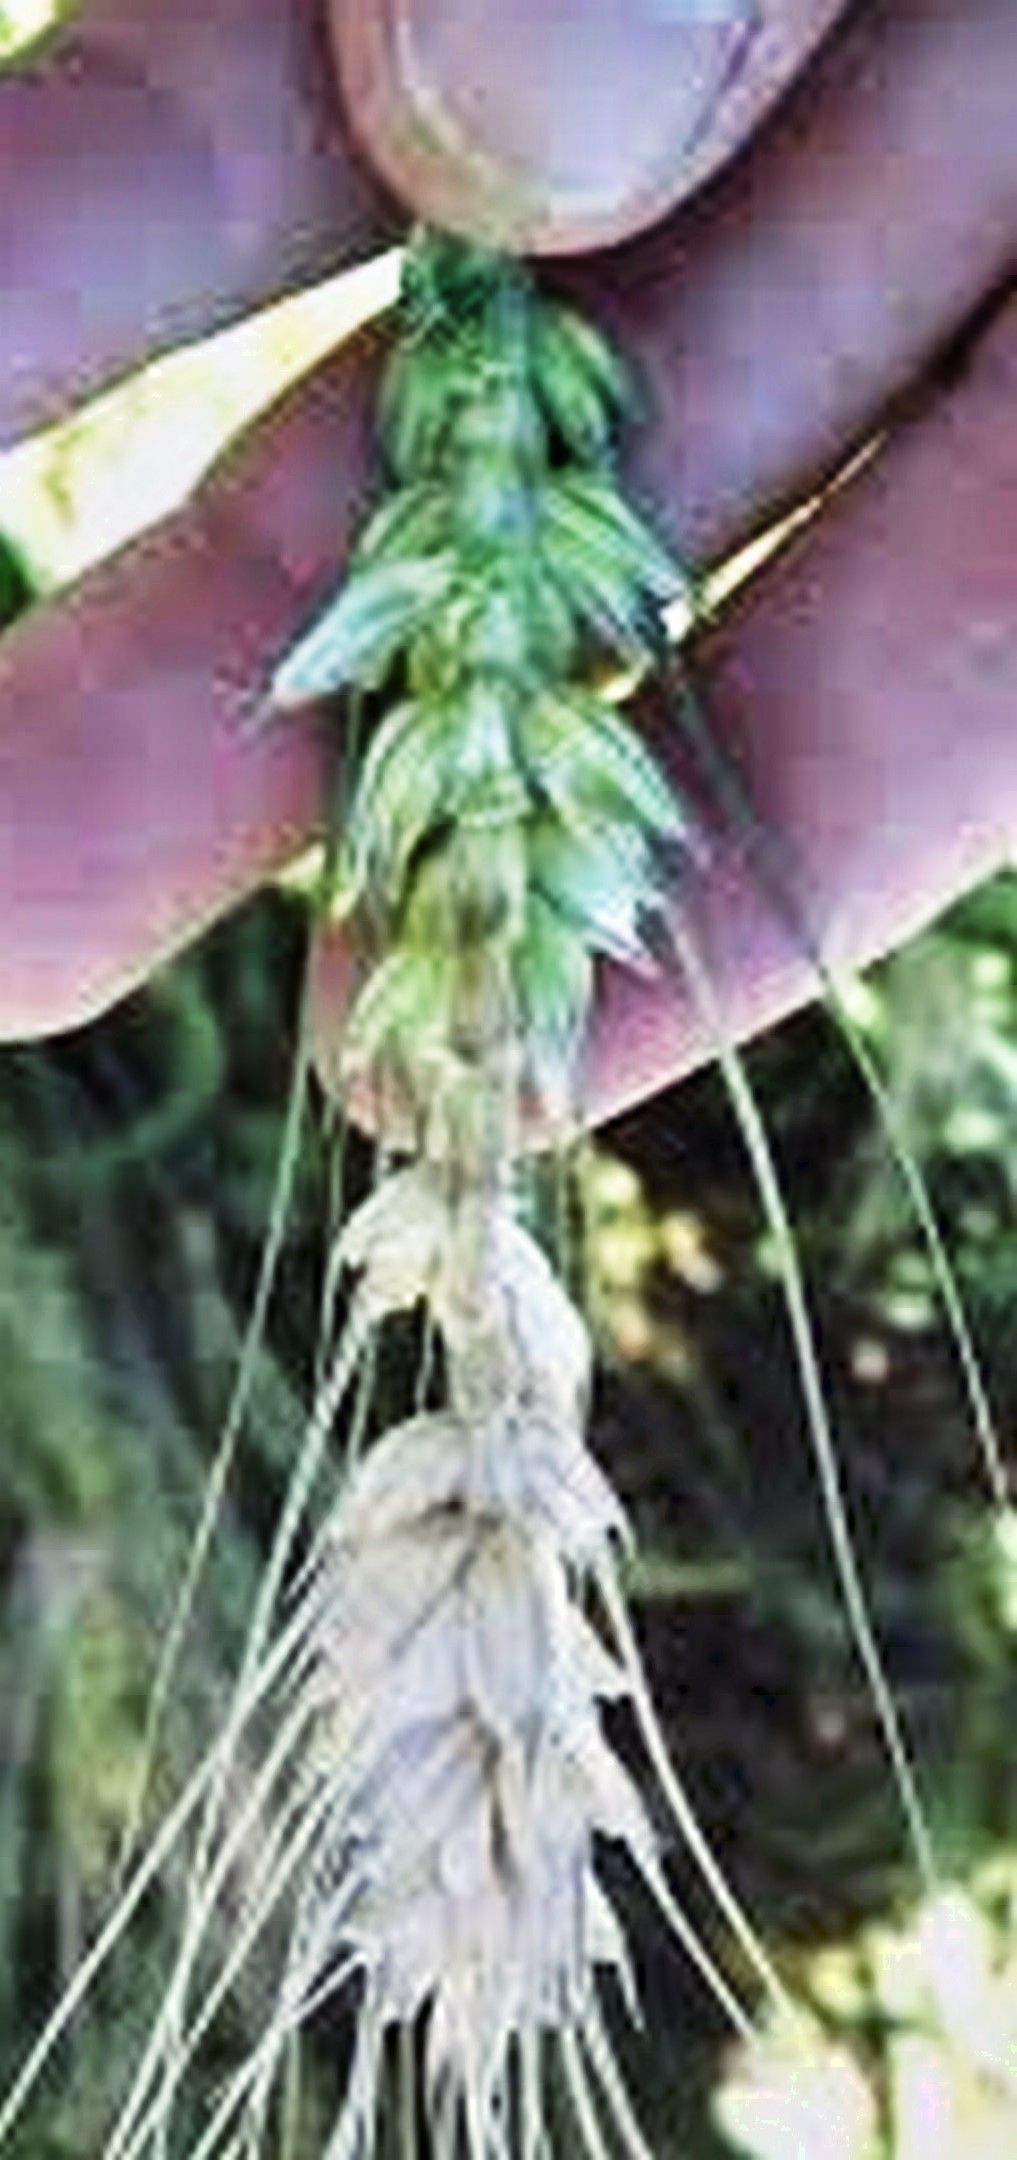Wheat scab: (267, 198, 739, 2137)
